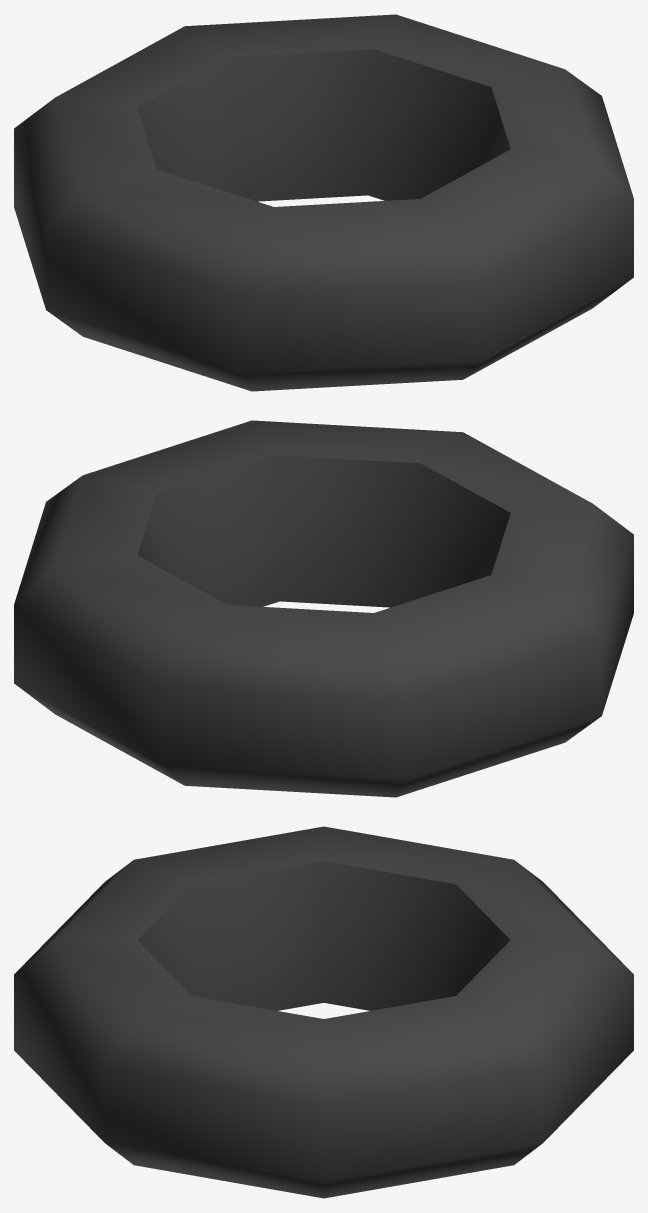
File: Tire_001.glb
3 renders of one model, top to bottom at view 1: azimuth 30°, elevation 25°; view 2: azimuth 150°, elevation 25°; view 3: azimuth 270°, elevation 25°, orthographic. The views are drawn at different scales.
Visible parts, largest first — view 1: Tire_001; view 2: Tire_001; view 3: Tire_001.
Boxes of the visible parts, x1,y1,x2,y2 form: Tire_001: (14,14,633,391); Tire_001: (14,420,633,797); Tire_001: (14,826,633,1198).
Size of the model in its own units: 0.8747 by 0.2252 by 0.8747.
1 material, 1 textured.
